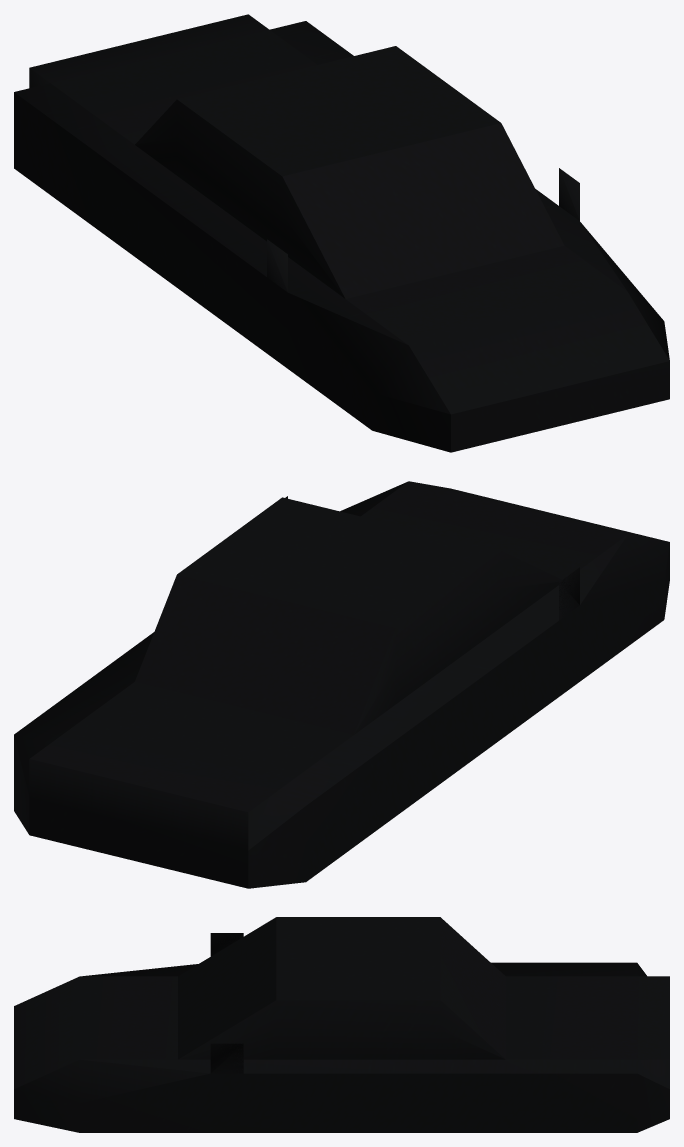
The picture shows the model from 3 angles, top to bottom: view 1: azimuth 30°, elevation 25°; view 2: azimuth 150°, elevation 25°; view 3: azimuth 270°, elevation 25°; orthographic projection. The views are drawn at different scales.
Bounding box in the file's own units: 1.92 × 0.96 × 4.8.
1 material, 1 textured.
